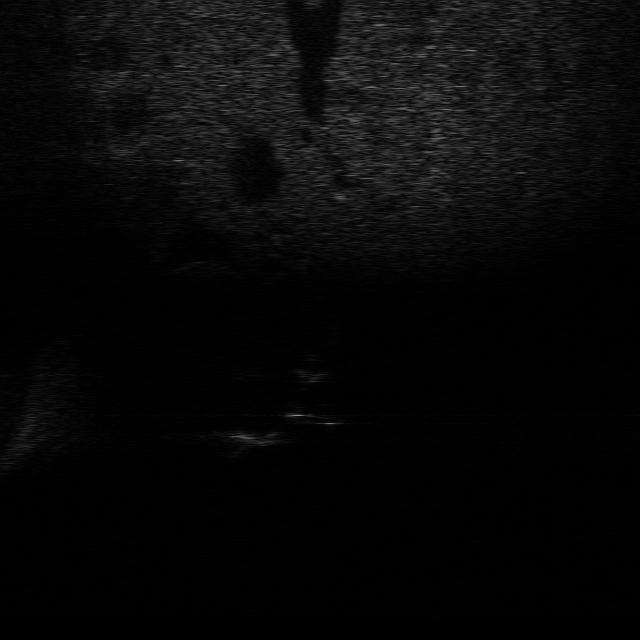ball: (286, 354, 338, 386)
square cage: (218, 428, 290, 463)
tyre: (275, 404, 349, 430)
